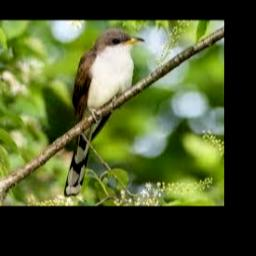Cuckoo: (64, 29, 145, 197)
